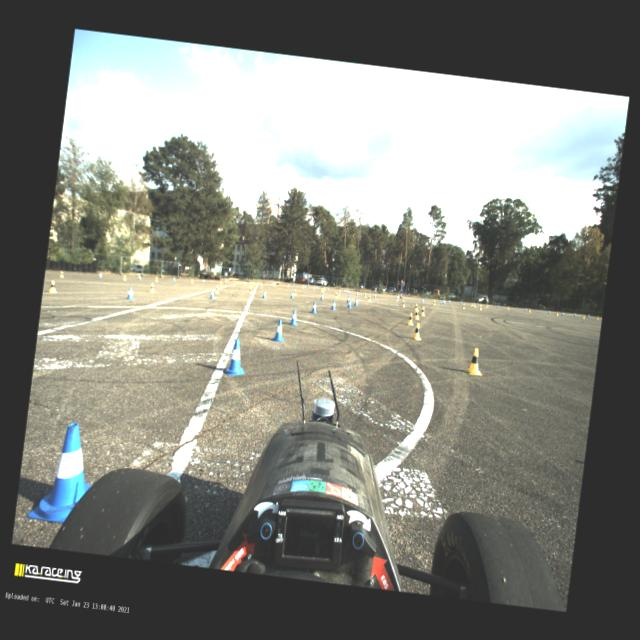blue_cone: (26, 418, 98, 526), (224, 337, 248, 377), (272, 318, 286, 341), (289, 308, 299, 326), (126, 286, 135, 299), (310, 301, 318, 313), (209, 288, 215, 298), (347, 298, 352, 308), (331, 300, 336, 310), (353, 298, 358, 306), (262, 290, 267, 298), (320, 292, 324, 300), (290, 291, 294, 298), (346, 295, 349, 302), (442, 299, 445, 304), (99, 273, 102, 278), (138, 274, 141, 279), (374, 292, 376, 298), (439, 300, 442, 304), (421, 298, 423, 302), (356, 291, 358, 295), (173, 277, 175, 281), (202, 278, 204, 282), (346, 290, 348, 294), (348, 290, 350, 294), (448, 299, 450, 303), (496, 304, 498, 308), (524, 307, 526, 311), (548, 310, 550, 314), (561, 311, 563, 315), (574, 312, 576, 316), (587, 313, 589, 317), (442, 299, 444, 303), (288, 284, 290, 287), (315, 286, 317, 289), (343, 289, 345, 292), (242, 282, 244, 284), (271, 282, 272, 286), (304, 286, 306, 288), (345, 290, 347, 292), (460, 300, 461, 304), (477, 302, 478, 306), (225, 280, 226, 283), (328, 288, 329, 290), (340, 288, 340, 292)
yellow_cone: (466, 347, 484, 375), (413, 322, 423, 340), (48, 280, 58, 292), (408, 312, 414, 325), (150, 283, 156, 293), (420, 306, 426, 316), (414, 310, 420, 320), (215, 285, 219, 293), (414, 303, 418, 311), (59, 270, 64, 276), (366, 296, 371, 302), (293, 288, 297, 295), (401, 300, 405, 307), (334, 292, 338, 298), (432, 300, 436, 306), (123, 274, 127, 280), (249, 287, 252, 294), (479, 304, 482, 310), (485, 302, 488, 308), (155, 276, 158, 281), (596, 315, 599, 320), (364, 292, 366, 298), (395, 296, 398, 300), (462, 304, 465, 308), (323, 286, 325, 292), (528, 308, 531, 312), (582, 314, 585, 318), (191, 278, 193, 283), (220, 279, 222, 284), (322, 287, 324, 292), (474, 302, 476, 307), (507, 305, 509, 310), (556, 311, 558, 316), (244, 281, 246, 285), (260, 282, 262, 286), (313, 286, 315, 290), (338, 290, 340, 294), (470, 302, 472, 306), (321, 288, 322, 292), (473, 302, 474, 306), (287, 284, 288, 287), (302, 285, 303, 288), (274, 282, 274, 286)
